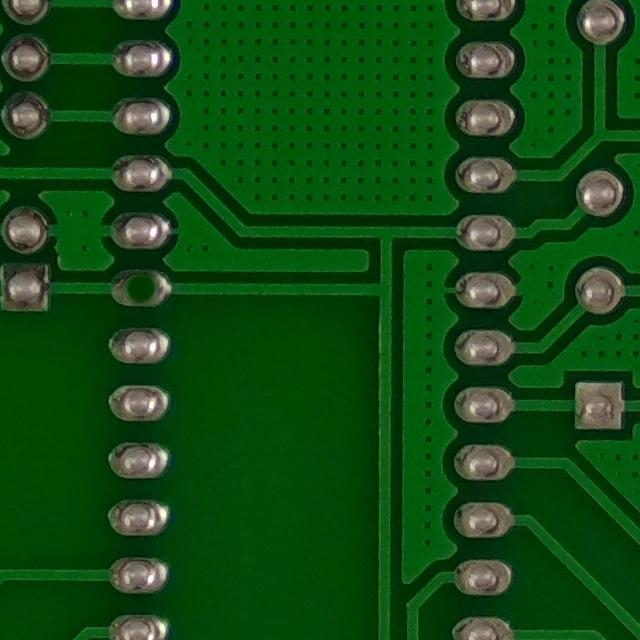missing_hole: (106, 254, 177, 314)
